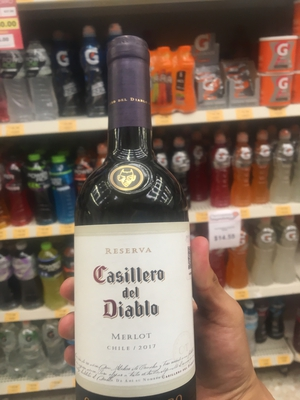casillero del diablo merlot: (69, 45, 199, 400)
